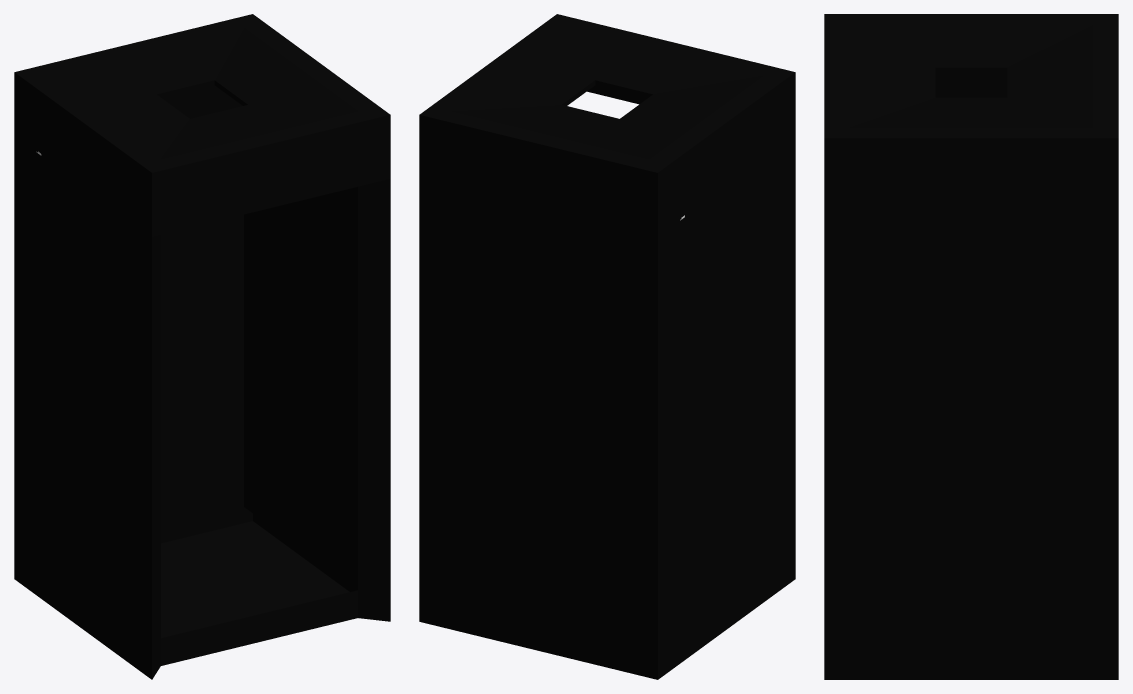
File: ascensor.fbx
The picture shows the model from 3 angles, left to right: view 1: azimuth 30°, elevation 25°; view 2: azimuth 150°, elevation 25°; view 3: azimuth 270°, elevation 25°; orthographic projection. The views are drawn at different scales.
Parts seen in each view (by area): view 1: Plane; view 2: Plane; view 3: Plane.
Part boxes in pixels (box(x1,y1,x2,y2)): Plane: box(14, 14, 390, 679); Plane: box(419, 14, 795, 679); Plane: box(824, 14, 1118, 679).
Bounding box in the file's own units: 627 × 1274 × 627.
1 material, 1 textured.
